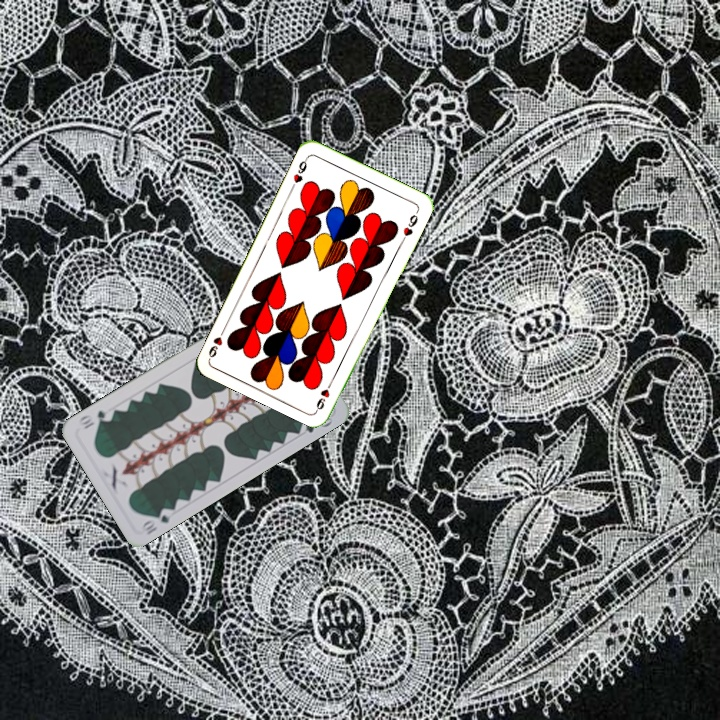G10: (138, 504, 176, 538)
H9: (287, 153, 311, 191), (312, 375, 336, 413)
